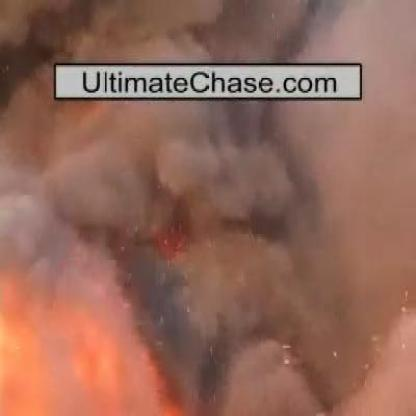-: (17, 110, 384, 381), (40, 2, 346, 58)
